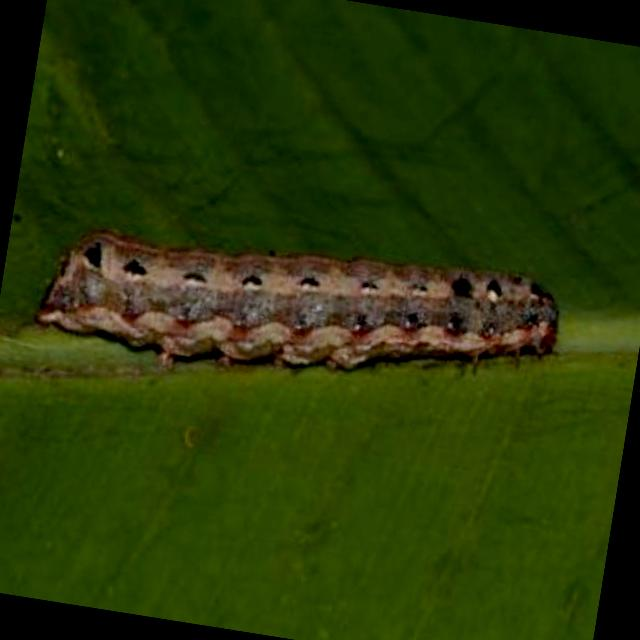Tobacco cutworm: (11, 136, 624, 504)
